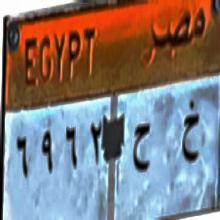2: (86, 116, 103, 162)
6: (63, 123, 81, 174), (14, 133, 30, 183)
7aa: (130, 117, 153, 184)
9: (39, 127, 55, 177)
khaa: (178, 86, 202, 165)
